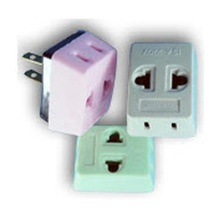three_eye_plug: (19, 20, 123, 140), (125, 35, 204, 146), (65, 112, 165, 199)
